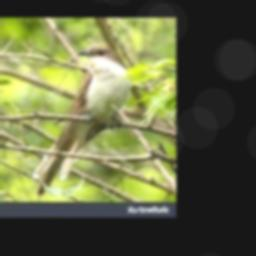Cuckoo: (33, 44, 129, 194)
